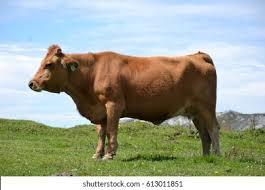cow: (28, 46, 221, 160)
